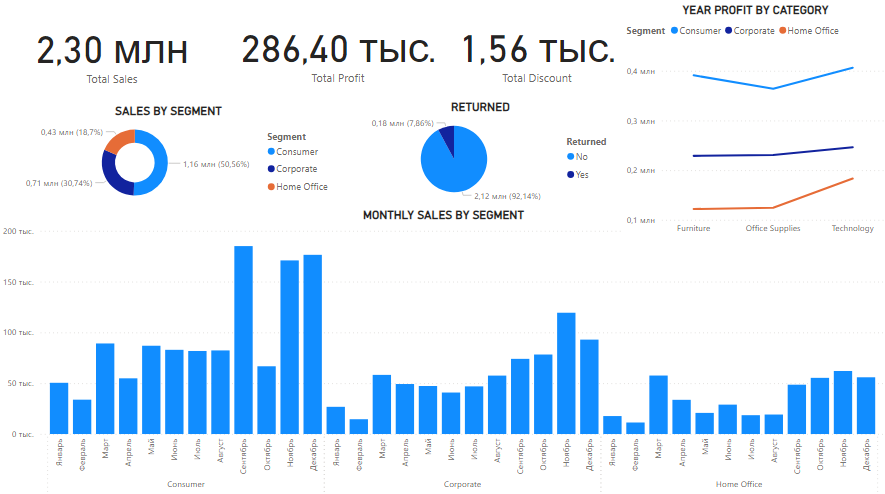

What the dashboard file says about the page in this screenshot:
{"tool":"powerbi","page":{"name":"Страница 1","canvas":[1280,720],"ordinal":0},"visuals":[{"type":"card","fields":{"Values":["Sum(ST_Orders.Profit)"]},"box":[325.4,4.3,325.4,139.7],"z":0},{"type":"card","fields":{"Values":["Sum(ST_Orders.Sales)"]},"box":[0,0,325.4,149.8],"z":1000},{"type":"columnChart","title":"MONTHLY SALES BY SEGMENT ","fields":{"Category":["ST_Orders.Segment","ST_Orders.Order Date.Изменение.Иерархия дат.Месяц"],"Y":["Sum(ST_Orders.Sales)"]},"box":[0,299.5,1280.2,420.5],"z":2000},{"type":"card","fields":{"Values":["Sum(ST_Orders.Discount)"]},"box":[650.9,4.3,247.7,139.7],"z":3000},{"type":"lineChart","title":"YEAR PROFIT BY CATEGORY","fields":{"Category":["ST_Orders.Category","ST_Orders.Product Name"],"Y":["Sum(ST_Orders.Sales)"],"Series":["ST_Orders.Segment"]},"box":[898.6,4.3,381.6,342.7],"z":4000},{"type":"pieChart","title":"RETURNED","fields":{"Y":["Sum(ST_Orders.Sales)"],"Category":["ST_Orders.Returned"]},"box":[488.1,144.4,410.1,151.1],"z":6000},{"type":"donutChart","title":"SALES BY SEGMENT","fields":{"Category":["ST_Orders.Segment"],"Y":["Sum(ST_Orders.Sales)"]},"box":[0,149.8,488.2,149.8],"z":6001}]}

Visuals, with their boxes in screenshot pixels (x1, y1, x2, y2), scaled from the page's 1280x720 canvas onto the 885x494 screenshot:
card - Sum(ST_Orders.Profit): 225/3/450/99
card - Sum(ST_Orders.Sales): 0/0/225/103
"MONTHLY SALES BY SEGMENT " columnChart: 0/205/884/493
card - Sum(ST_Orders.Discount): 450/3/621/99
"YEAR PROFIT BY CATEGORY" lineChart: 621/3/884/238
"RETURNED" pieChart: 337/99/621/203
"SALES BY SEGMENT" donutChart: 0/103/338/206
